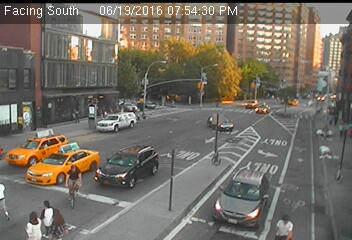neg: (56, 161, 90, 207), (230, 100, 249, 126), (252, 40, 271, 66), (281, 136, 298, 159), (154, 137, 171, 159), (56, 41, 73, 63), (89, 54, 105, 76), (115, 166, 131, 187), (206, 53, 222, 73), (193, 111, 208, 132), (297, 102, 311, 122), (128, 70, 141, 87), (104, 16, 116, 32), (163, 73, 174, 87), (300, 19, 309, 31)
pos: (32, 193, 62, 234), (20, 203, 43, 234), (273, 209, 295, 237), (70, 107, 81, 122), (332, 112, 342, 126), (327, 117, 335, 127)
